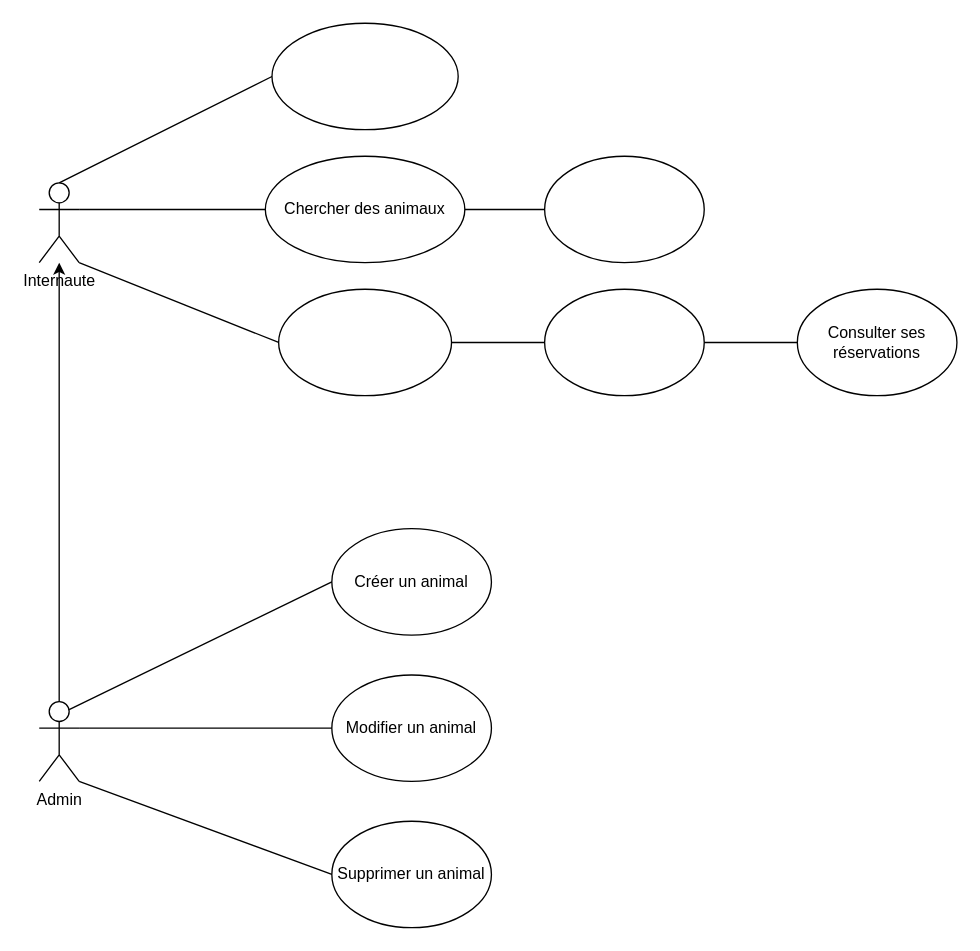
This 980x951 diagram has some shape labels left out. The box of each missing label's shape, as (x1, y1, x2, y2) in pixels:
Consulter les informations des animaux: (543, 155, 704, 263)
Créer un compte: (271, 22, 458, 130)
Réserver un ou plusieurs spectacle: (543, 288, 704, 396)
Réserver une ou plusieurs place: (277, 288, 452, 396)
